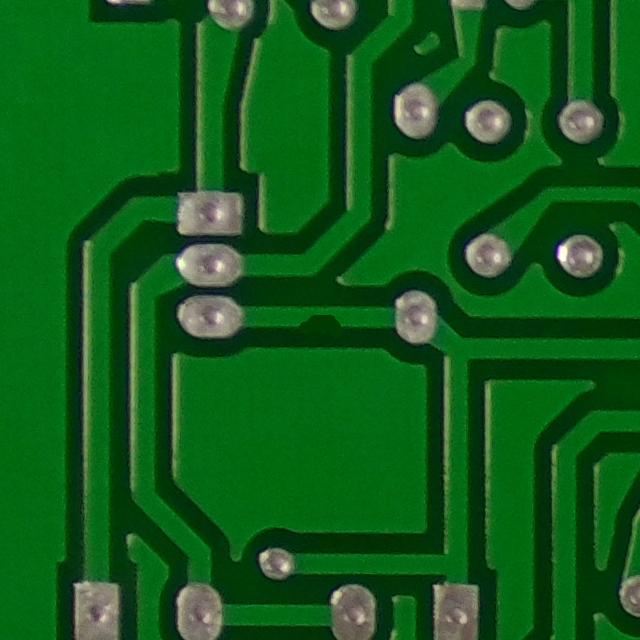mouse_bite: (283, 294, 358, 347)
